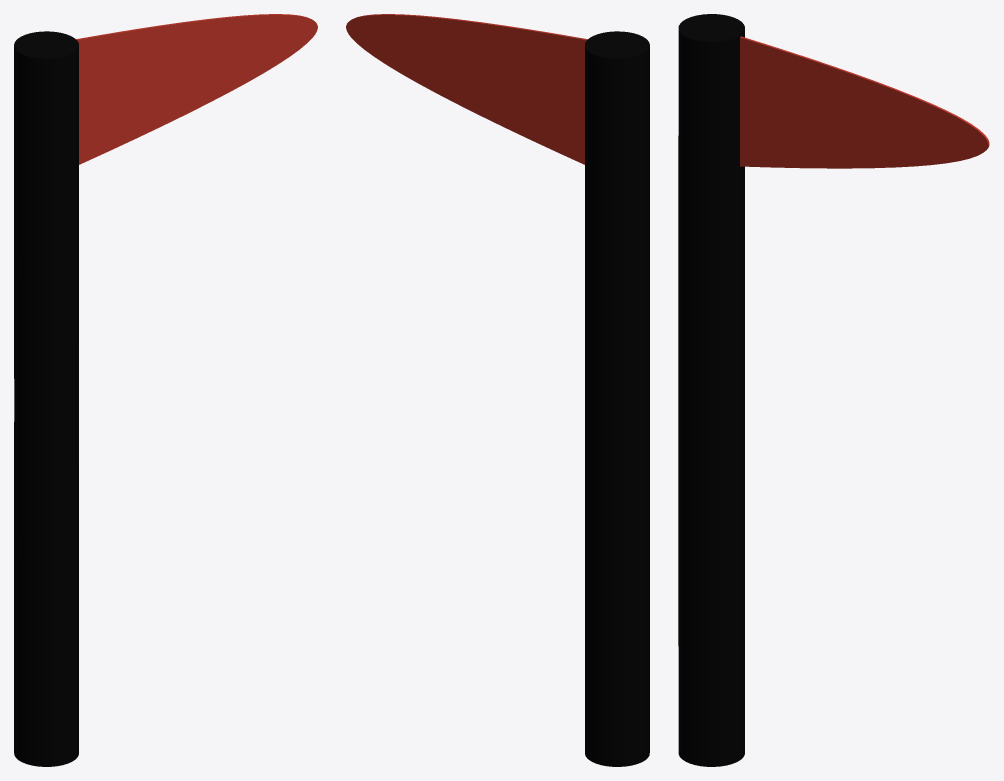
File: Drapeau v0.fbx
The picture shows the model from 3 angles, left to right: view 1: azimuth 30°, elevation 25°; view 2: azimuth 150°, elevation 25°; view 3: azimuth 330°, elevation 25°; orthographic projection. The views are drawn at different scales.
Parts seen in each view (by area): view 1: Body3, Body4; view 2: Body3, Body4; view 3: Body3, Body4.
Boxes of the visible parts, x1,y1,x2,y2 form: Body3: (14, 31, 78, 766); Body4: (76, 14, 317, 164); Body3: (585, 31, 649, 766); Body4: (346, 14, 587, 164); Body3: (678, 14, 744, 766); Body4: (740, 36, 989, 168).
Size of the model in its own units: 265 by 600 by 50.
